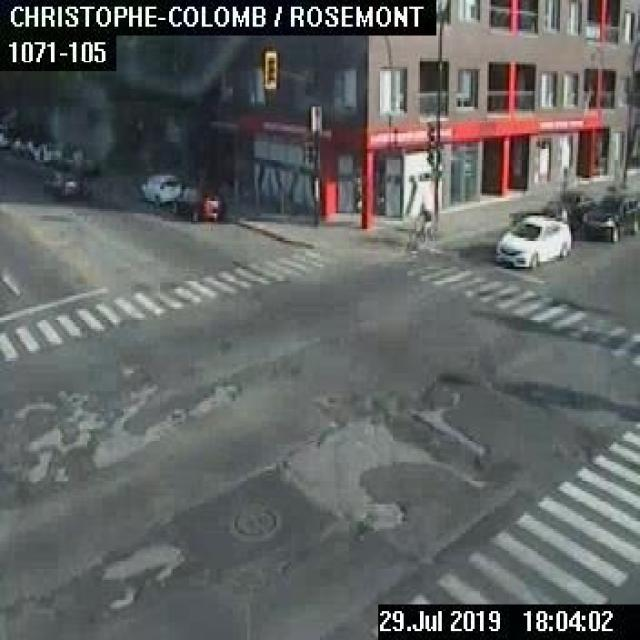cyclist: (405, 201, 433, 249)
vehicle: (494, 214, 570, 266), (581, 193, 638, 241), (540, 189, 592, 227), (170, 185, 224, 220), (42, 166, 81, 198), (139, 173, 179, 204), (32, 142, 59, 162), (10, 136, 23, 156), (21, 139, 34, 155)
